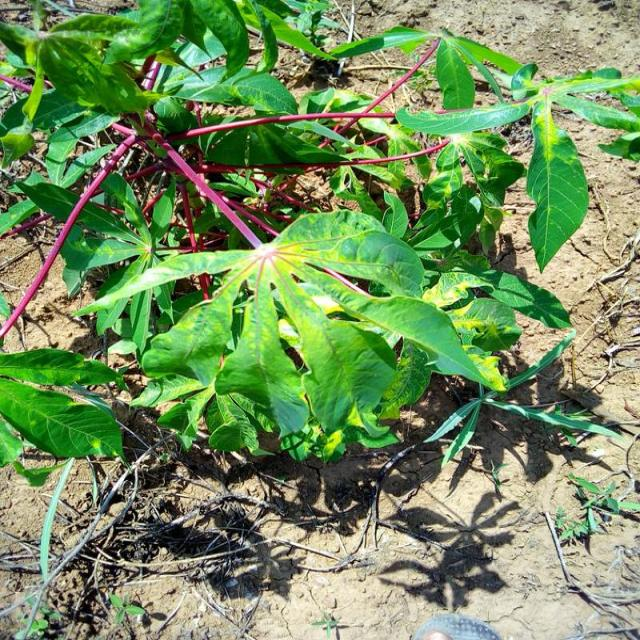cassava leaf: (102, 206, 508, 460), (526, 96, 590, 273)
